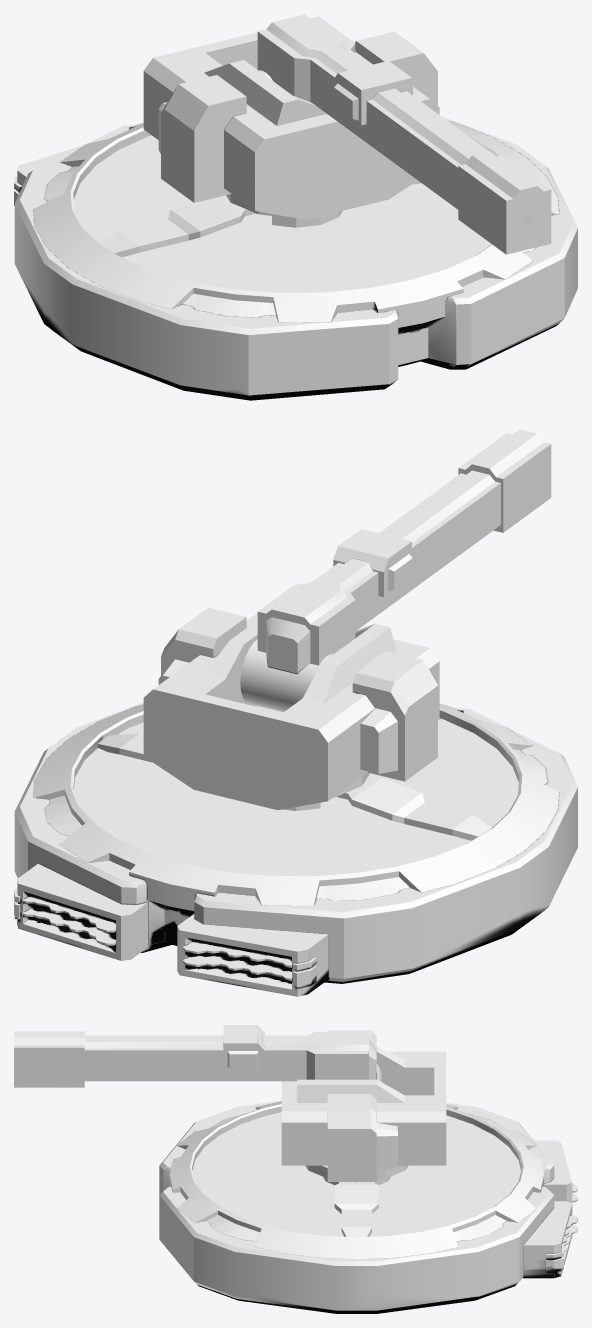
Rendered from craft1.fbx.
3 renders of one model, top to bottom at view 1: azimuth 30°, elevation 25°; view 2: azimuth 150°, elevation 25°; view 3: azimuth 270°, elevation 25°, orthographic. The views are drawn at different scales.
Parts seen in each view (by area): view 1: baseLow, gunBaseLow, gunLow; view 2: baseLow, gunBaseLow, gunLow; view 3: baseLow, gunBaseLow, gunLow.
Boxes of the visible parts, left/top/right/bottom form: baseLow: left=14, top=116, right=577, bottom=400; gunBaseLow: left=100, top=31, right=439, bottom=257; gunLow: left=257, top=14, right=551, bottom=254; baseLow: left=14, top=702, right=577, bottom=996; gunBaseLow: left=98, top=607, right=491, bottom=840; gunLow: left=240, top=429, right=551, bottom=712; baseLow: left=159, top=1100, right=577, bottom=1313; gunBaseLow: left=281, top=1030, right=446, bottom=1237; gunLow: left=14, top=1025, right=382, bottom=1087.
Size of the model in its own units: 724 by 388 by 1006.
